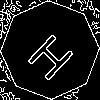H: (25, 25, 82, 83)
